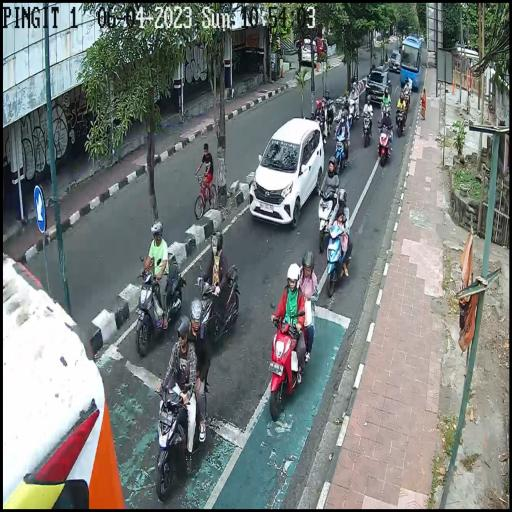mobil: (249, 116, 323, 227), (400, 38, 422, 92), (366, 66, 392, 107), (389, 50, 401, 74)
motor: (156, 372, 208, 500), (268, 300, 317, 421), (136, 252, 186, 359), (194, 264, 242, 344), (326, 225, 351, 295), (318, 182, 340, 256), (378, 118, 394, 168), (334, 129, 350, 169), (360, 108, 373, 148), (346, 94, 360, 129), (394, 103, 407, 137), (403, 89, 411, 113)
